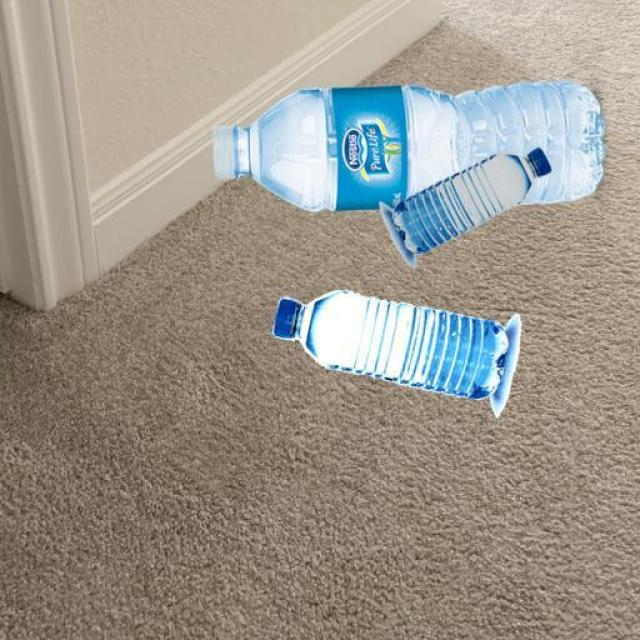bottle: (252, 281, 534, 421)
